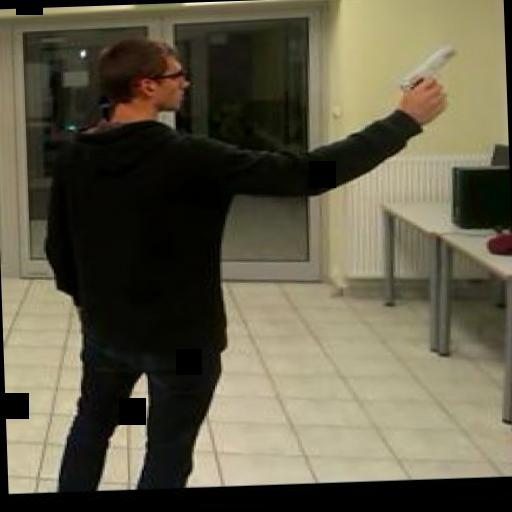Handgun: (392, 42, 456, 109)
